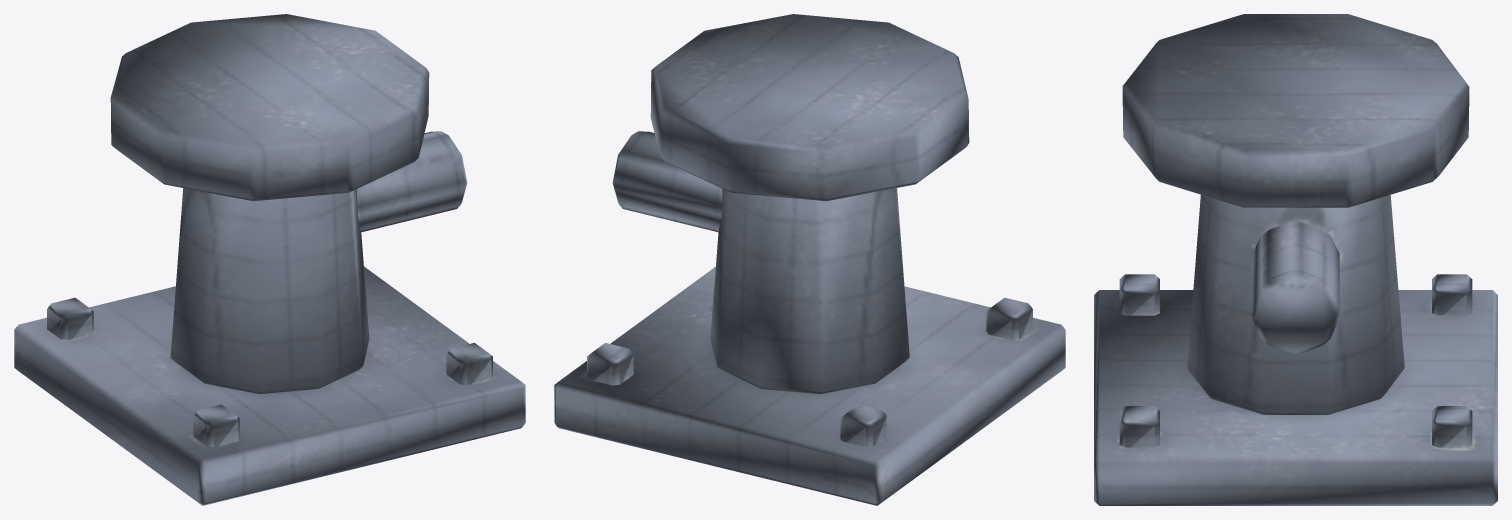
File: Prop_Bita.fbx
3 views of the same model, side by side, from view 1: azimuth 30°, elevation 25°; view 2: azimuth 150°, elevation 25°; view 3: azimuth 270°, elevation 25° (orthographic). The views are drawn at different scales.
Visible parts, largest first — view 1: Prop_Bita; view 2: Prop_Bita; view 3: Prop_Bita.
Boxes of the visible parts, <box> form: Prop_Bita: <box>14,14,525,505</box>; Prop_Bita: <box>554,14,1065,505</box>; Prop_Bita: <box>1094,14,1497,505</box>.
Size of the model in its own units: 2.3 by 2.05 by 2.2.
